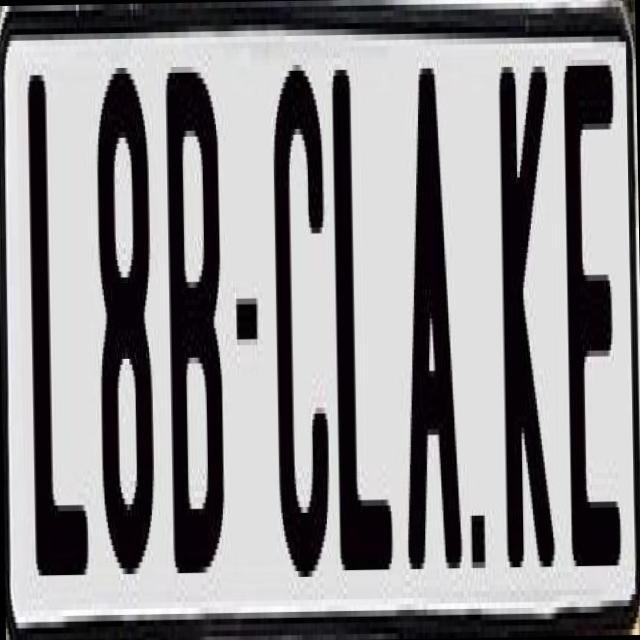8: (95, 61, 160, 574)
A: (395, 55, 458, 592)
B: (164, 60, 230, 567)
C: (267, 58, 330, 595)
E: (560, 59, 619, 566)
K: (494, 66, 550, 579)
L: (27, 73, 93, 604), (327, 69, 394, 582)
